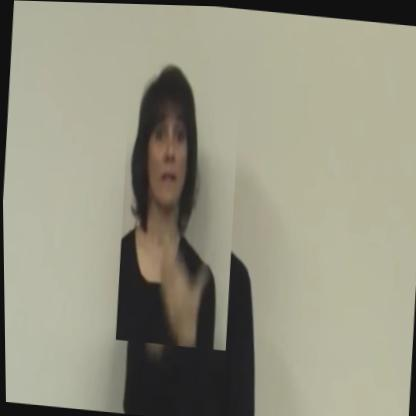ThankYou: (111, 56, 245, 350)
